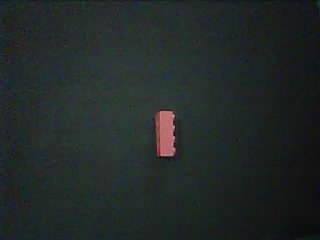lego: (153, 110, 176, 158)
